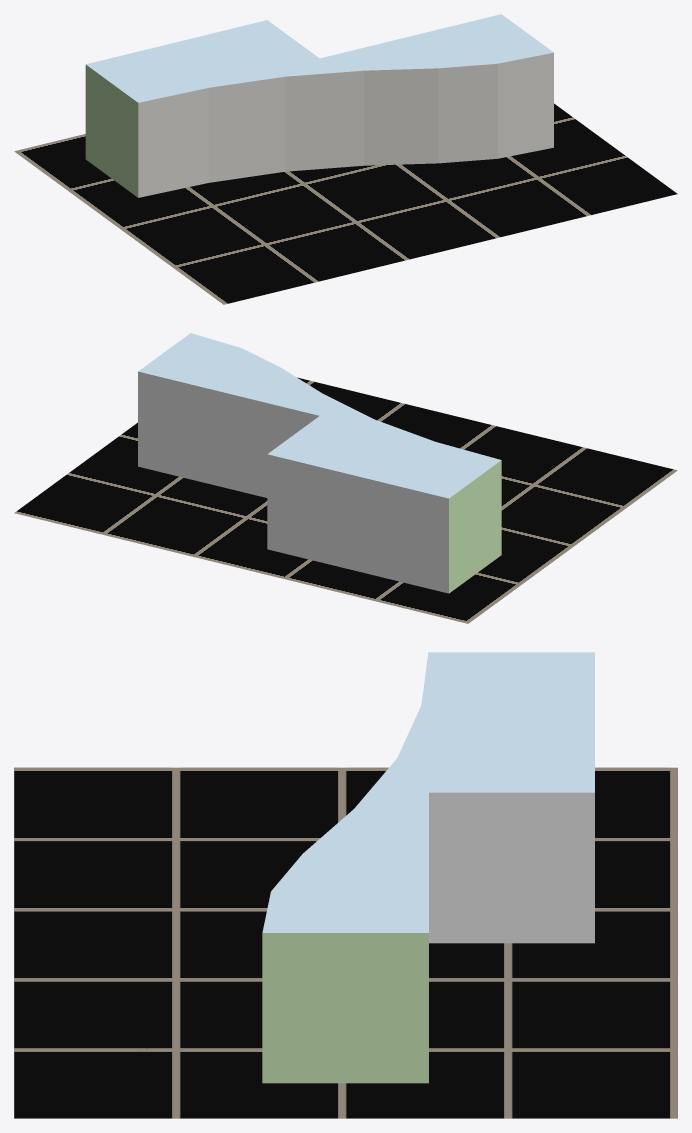
Rendered from Wall_Esse_3x4_Mid.glb.
3 renders of one model, top to bottom at view 1: azimuth 30°, elevation 25°; view 2: azimuth 150°, elevation 25°; view 3: azimuth 270°, elevation 25°, orthographic. The views are drawn at different scales.
Parts seen in each view (by area): view 1: Wall_Esse_3x4_Mid, Floor; view 2: Wall_Esse_3x4_Mid, Floor; view 3: Floor, Wall_Esse_3x4_Mid.
Part boxes in pixels (<box>): Wall_Esse_3x4_Mid: <box>85,14,553,197</box>; Floor: <box>14,103,677,304</box>; Wall_Esse_3x4_Mid: <box>138,333,501,593</box>; Floor: <box>14,377,677,623</box>; Floor: <box>14,767,677,1118</box>; Wall_Esse_3x4_Mid: <box>262,652,594,1083</box>.
Size of the model in its own units: 500 by 100 by 400.
5 materials, 1 textured.
